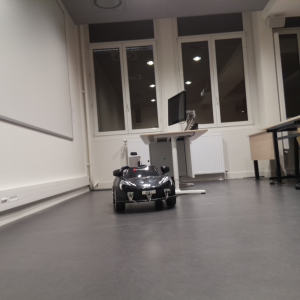big: (111, 164, 178, 216)
